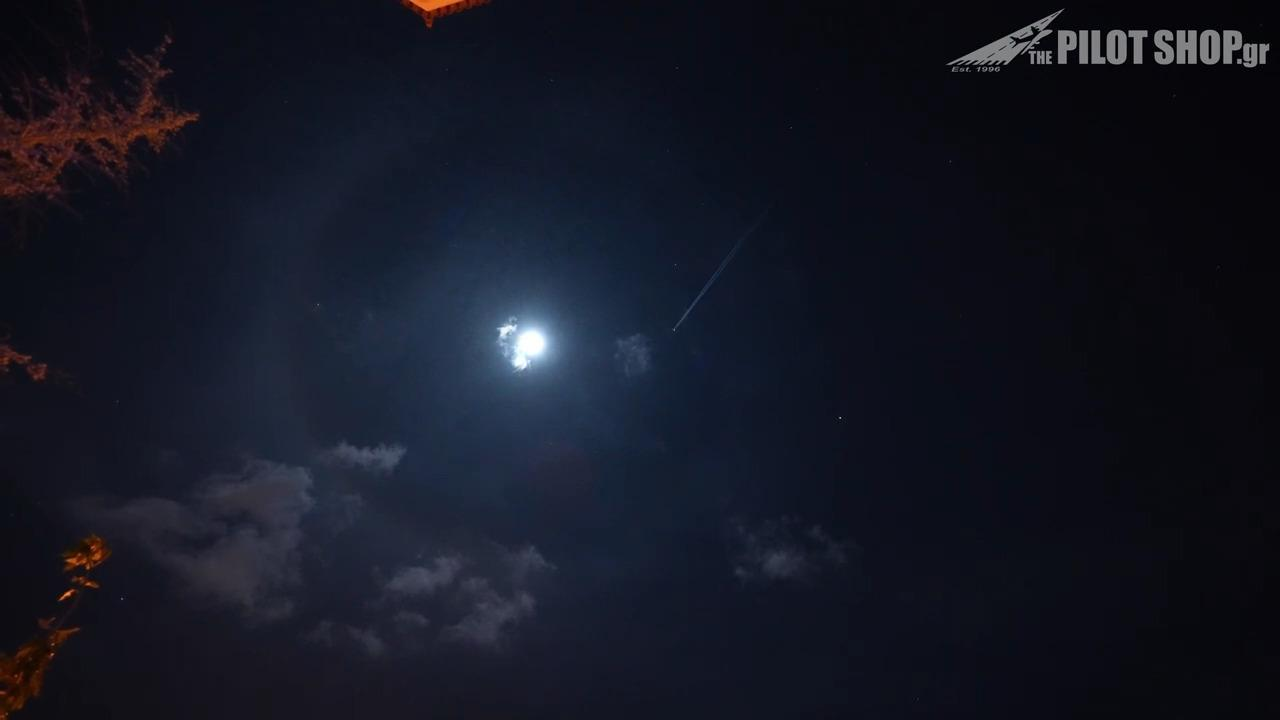Plane: (631, 212, 799, 347)
